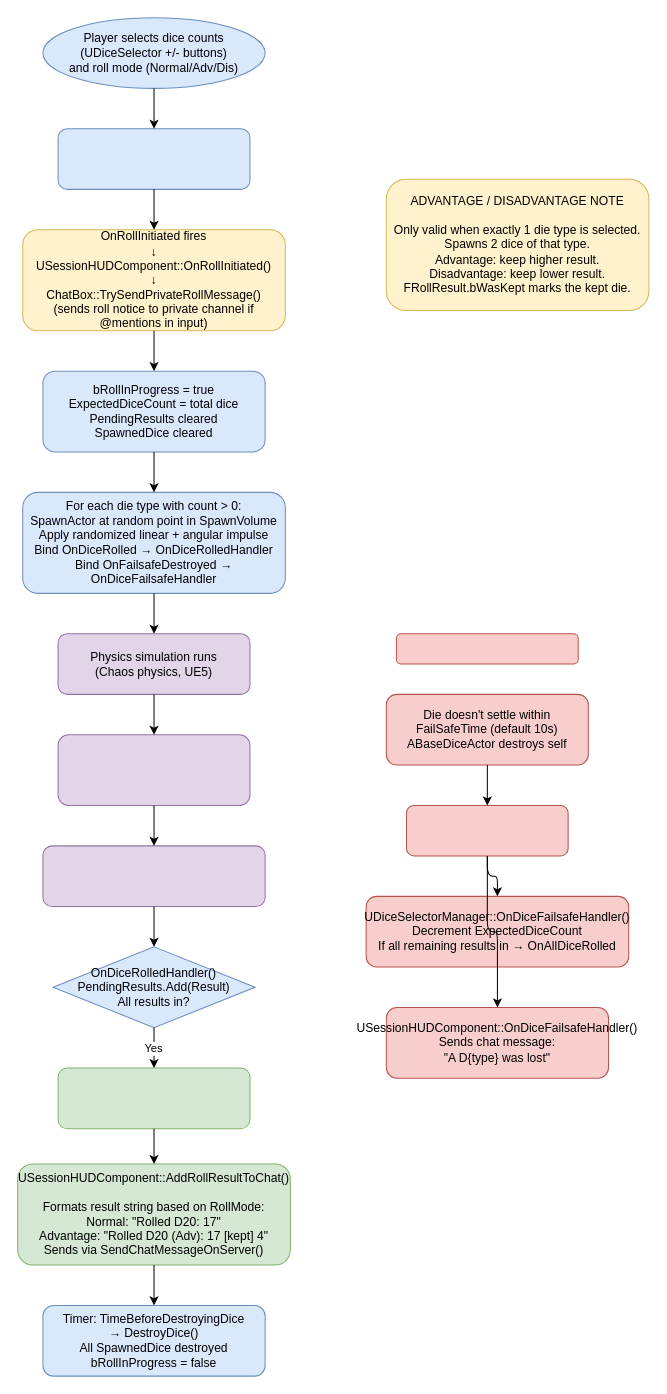
This 667x1394 diagram has some shape labels left out. The shapes that lost their labels are listed below. From the top down, each one's box as (x1, y1, x2, y2) in pixels, then its label:
(57, 128, 250, 189): Player clicks Roll button UDiceSelectorManager::RollDice()
(395, 633, 578, 664): FAILSAFE PATH
(57, 734, 250, 805): Die settles OnComponentSleep fires (requires Generate Wake Events = true)
(406, 804, 568, 856): OnFailsafeDestroyed fires (EDiceType)
(42, 845, 265, 906): ABaseDiceActor::OnDiceRolled fires FRollResult{ DiceType, Value, DiceActor }
(57, 1067, 250, 1129): OnAllDiceRolled fires (Results[], RollMode)
